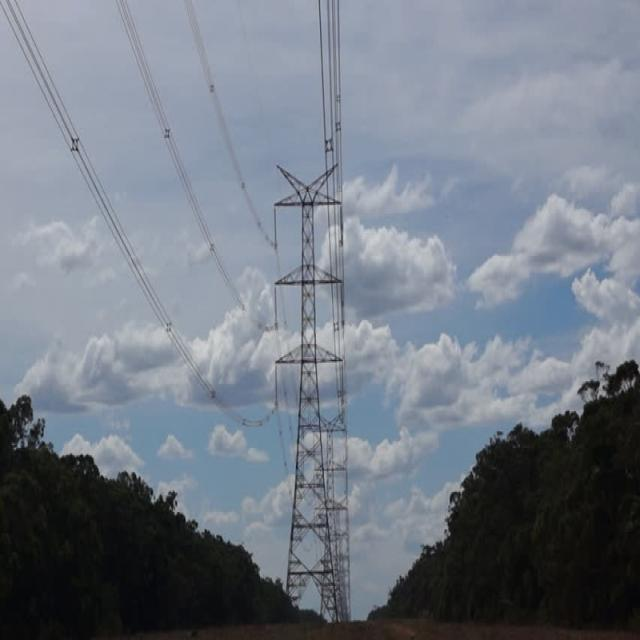non-critical vegetation: (272, 145, 351, 620)
